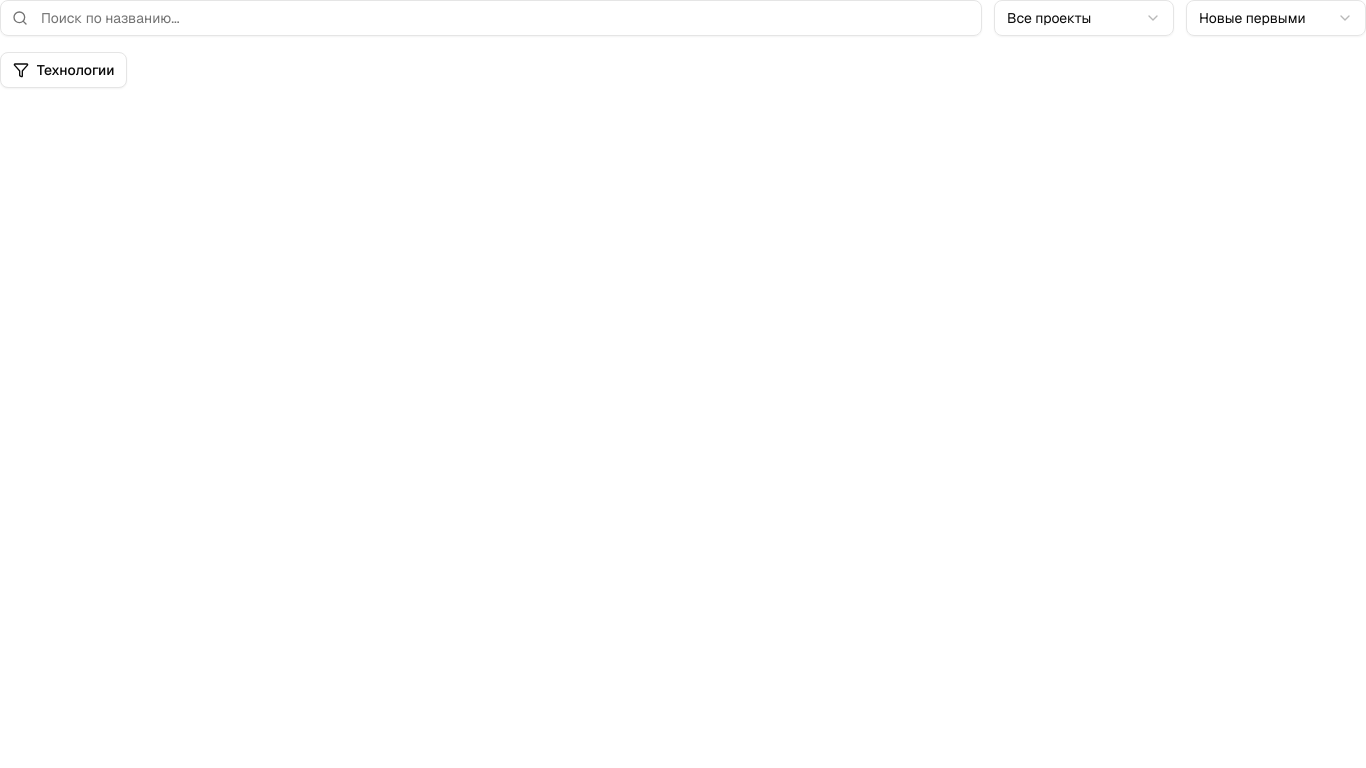
Test: ProjectsFilters › Фильтр по технологиям › Popover и кнопка › открывает Popover при клике на кнопку
Click the button "Технологии". click: (64, 70)
box: x1=0 y1=52 x2=127 y2=88
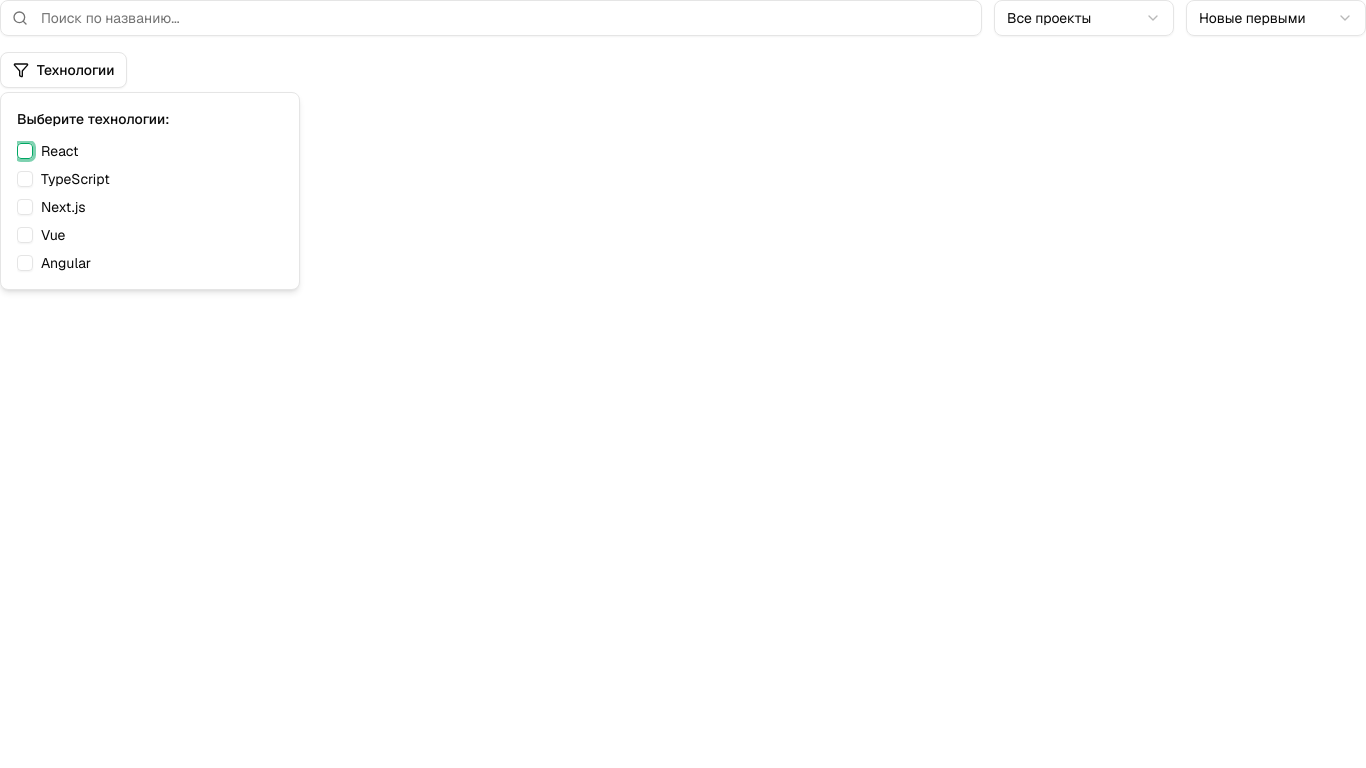
Result: the text "Выберите технологии:" is shown at x1=17 y1=110 x2=169 y2=128
